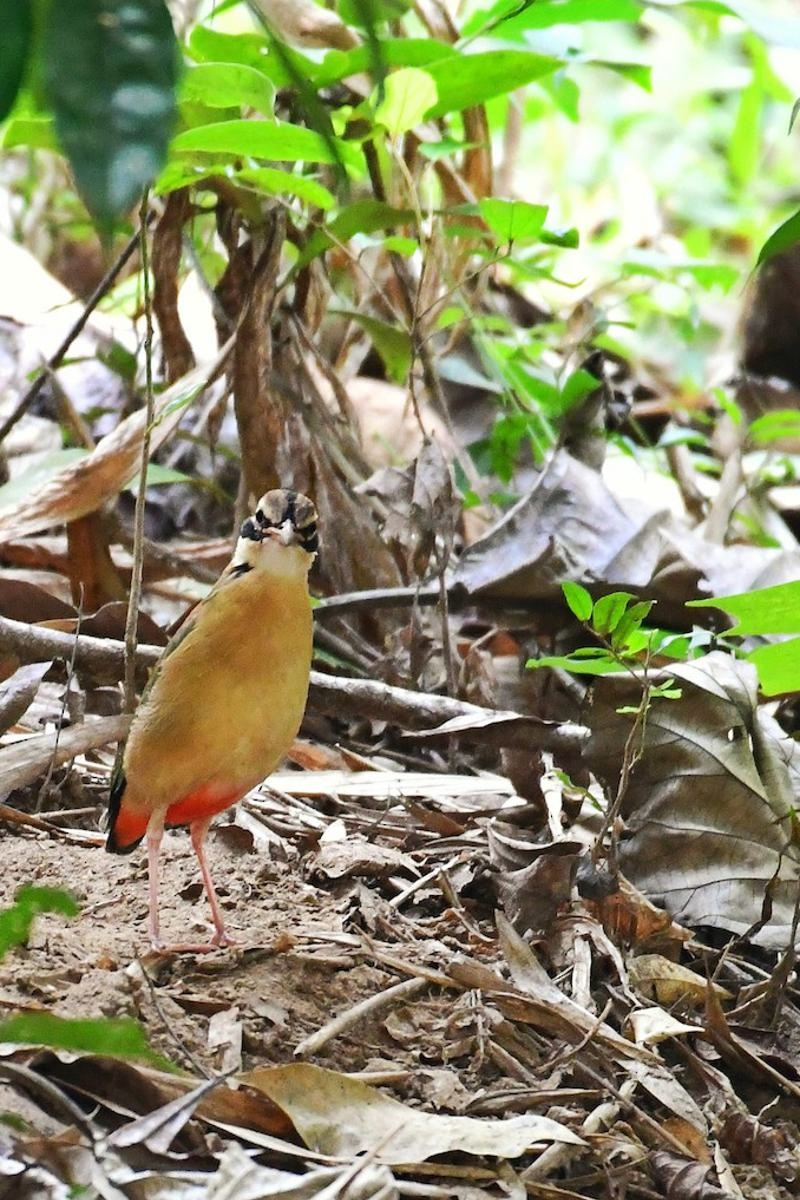pitta: (78, 438, 417, 918)
